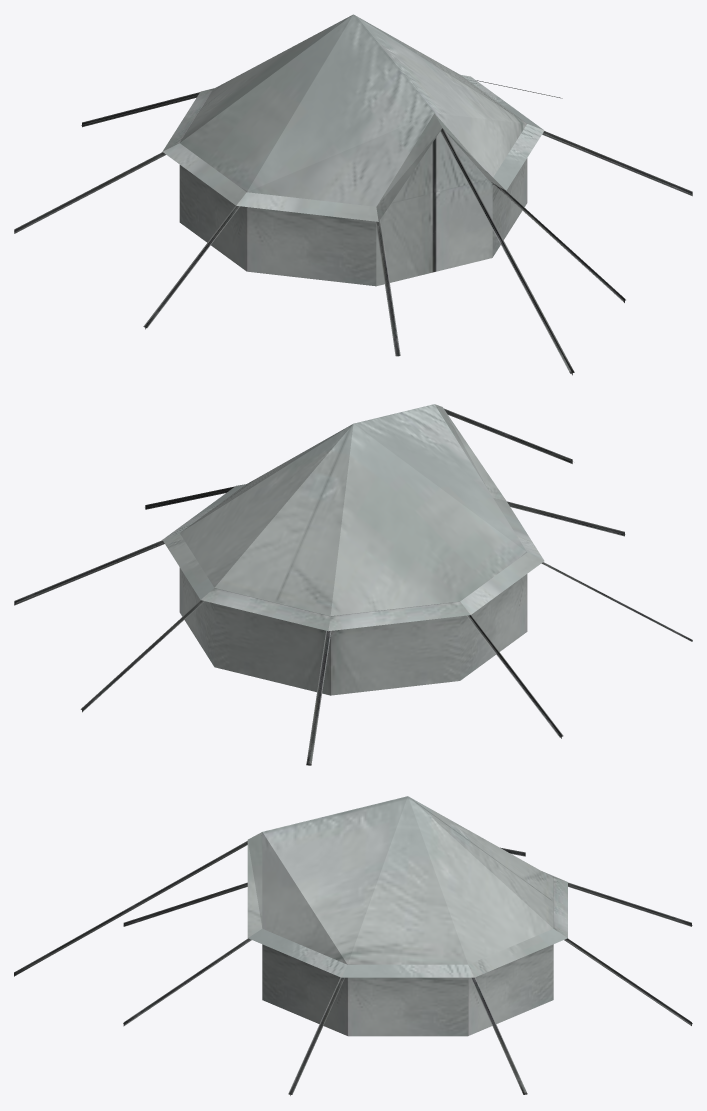
File: Tent01WA.obj
3 renders of one model, top to bottom at view 1: azimuth 30°, elevation 25°; view 2: azimuth 150°, elevation 25°; view 3: azimuth 270°, elevation 25°, orthographic. The views are drawn at different scales.
Parts seen in each view (by area): view 1: Tent01WA; view 2: Tent01WA; view 3: Tent01WA.
Part boxes in pixels (x1,y1,x2,y2): Tent01WA: (14,14,692,375); Tent01WA: (14,404,692,765); Tent01WA: (14,796,692,1095).
Size of the model in its own units: 10.85 by 3.8 by 12.93.
